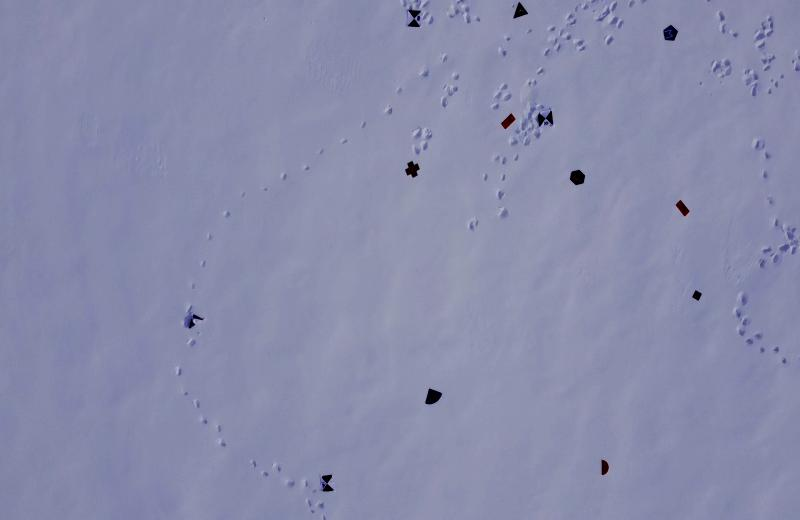Cross: (404, 160, 420, 178)
Hexagon: (569, 169, 586, 186)
Pentagon: (662, 24, 679, 42)
Quarter Circle: (426, 387, 442, 406)
Rectangle: (500, 112, 516, 131), (674, 200, 690, 217)
Semi Circle: (599, 458, 610, 476)
Square: (692, 290, 702, 301)
Triangle: (513, 0, 529, 21)
